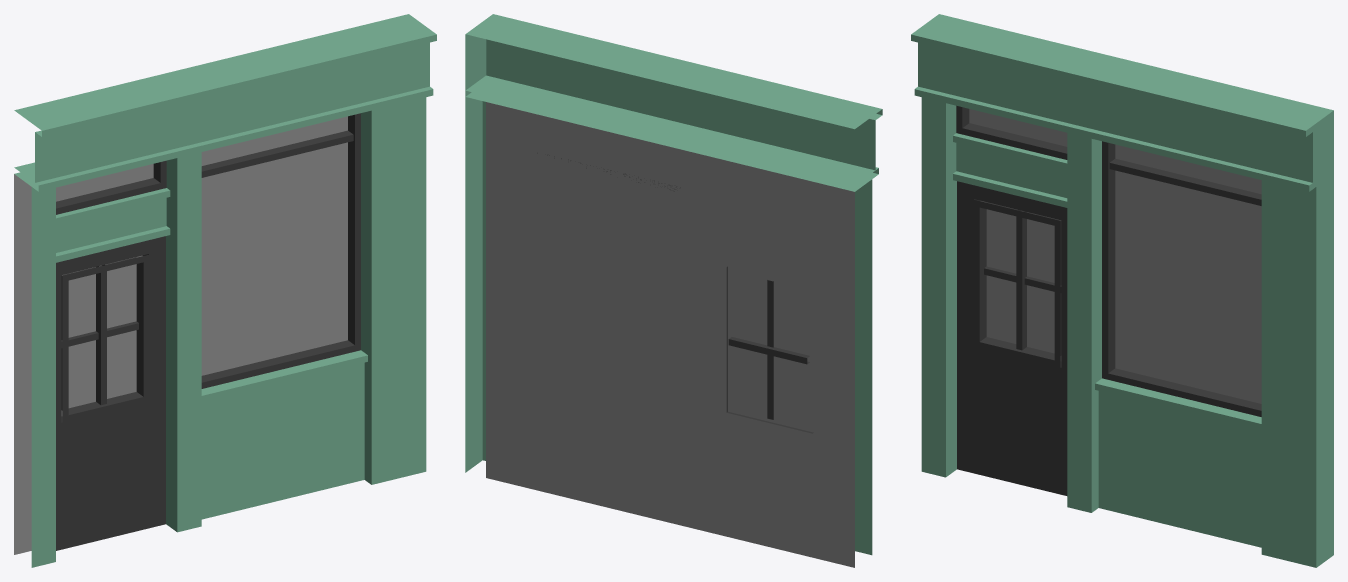
Rendered from object_B1_Ground_floor_corner.glb.
3 views of the same model, side by side, from view 1: azimuth 30°, elevation 25°; view 2: azimuth 150°, elevation 25°; view 3: azimuth 330°, elevation 25° (orthographic).
Parts seen in each view (by area): view 1: B1 Ground floor corner; view 2: B1 Ground floor corner; view 3: B1 Ground floor corner.
Boxes of the visible parts, box(x1,y1,x2,y2) form: B1 Ground floor corner: box(14, 14, 436, 567); B1 Ground floor corner: box(465, 14, 882, 567); B1 Ground floor corner: box(911, 14, 1333, 567).
Bounding box in the file's own units: 3.25 × 3.5 × 0.4439.
